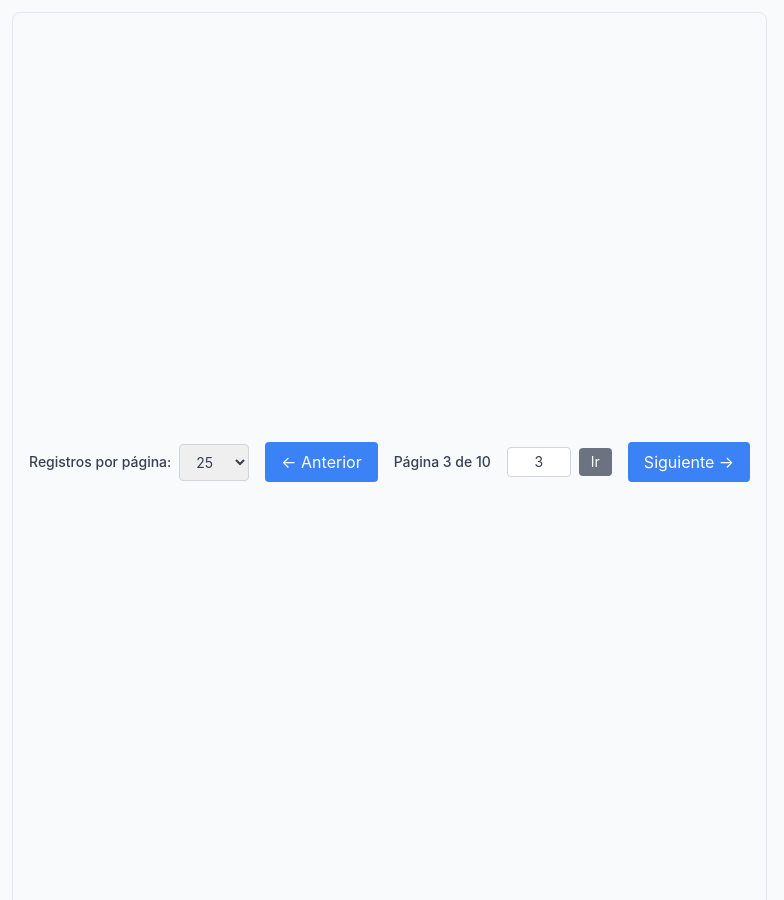
Test: PaginationComponent - Unit Tests › Input Validation › should reset input to current page on invalid input
Replace the text in the number field with placeholder "Ir a" with "15" at (539,462), box [507,447,571,477]
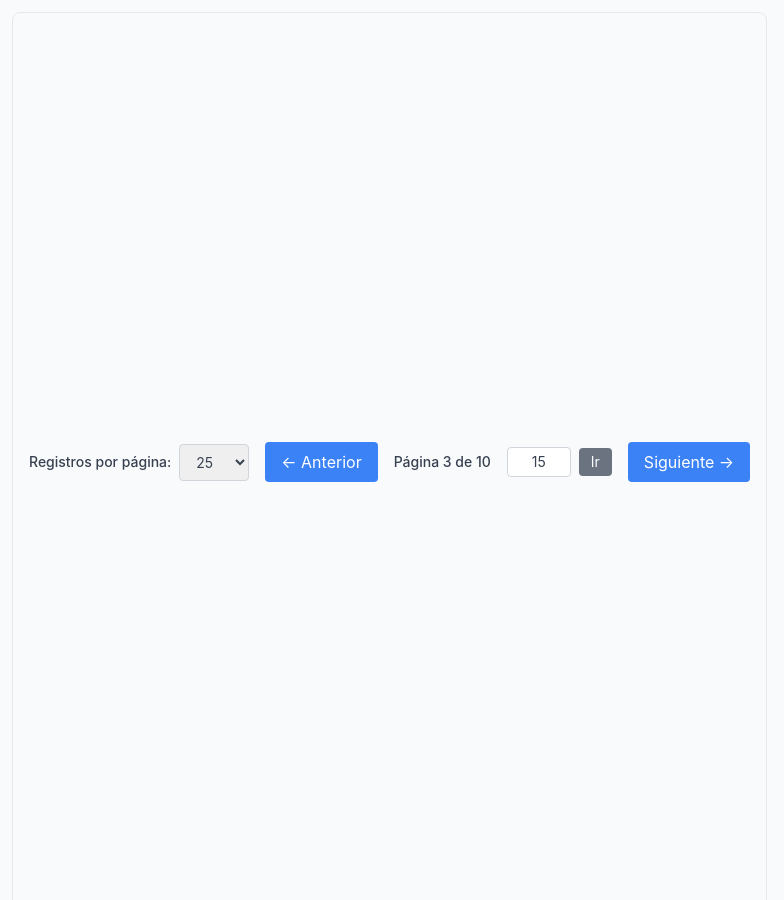
Click the button "Ir".
click(595, 462)  # box [579,448,612,476]
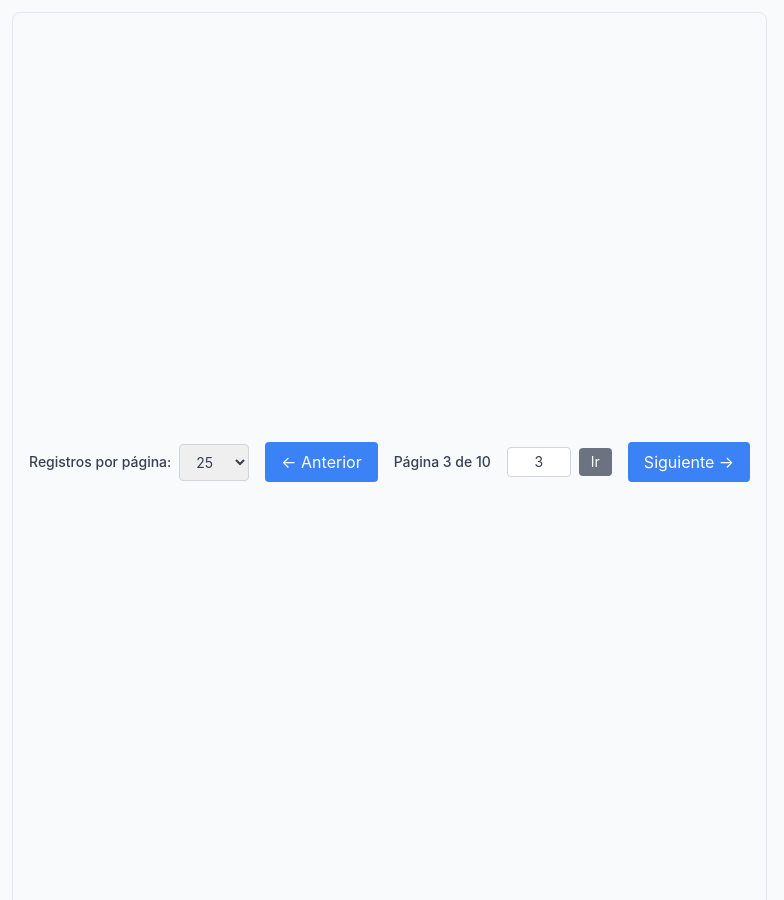
Now the number field with placeholder "Ir a" holds "3", box [507,447,571,477]
